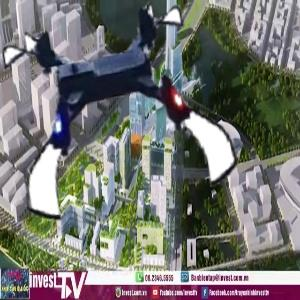drone: (10, 3, 231, 224)
